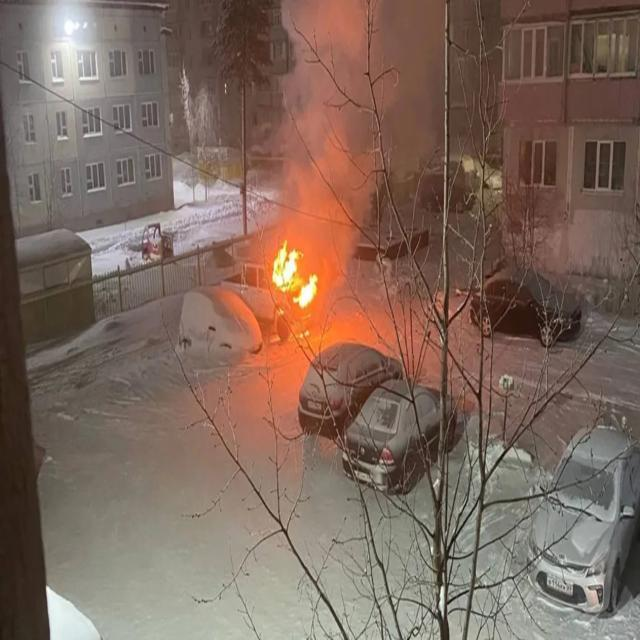Fire: (272, 240, 318, 308)
Smoke: (274, 0, 436, 284)
